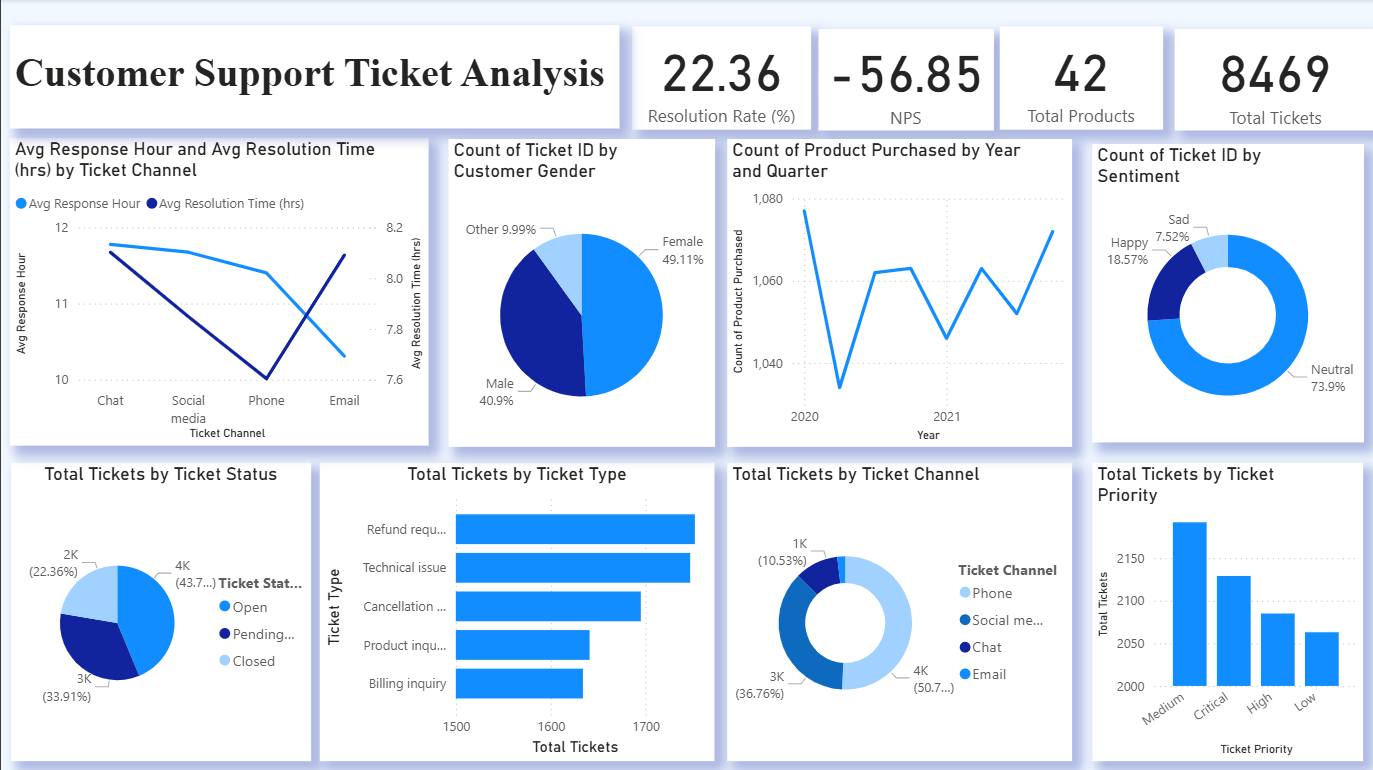

Layout of this report page (visuals, bound fields, positions):
{"tool":"powerbi","page":{"name":"Page 1","canvas":[1280,720],"ordinal":0},"visuals":[{"type":"card","fields":{"Values":["customer_support_tickets.Resolution Rate (%)"]},"box":[587.1,26.1,166.7,95.8],"z":0},{"type":"card","fields":{"Values":["customer_support_tickets.NPS"]},"box":[760.1,27.4,163,94.5],"z":1000},{"type":"pieChart","fields":{"Category":["customer_support_tickets.Ticket Status"],"Y":["customer_support_tickets.Total Tickets"]},"box":[9,431.3,279.1,277.6],"z":2000},{"type":"clusteredBarChart","fields":{"Category":["customer_support_tickets.Ticket Type"],"Y":["customer_support_tickets.Total Tickets"]},"box":[297,431.3,367.2,277.6],"z":3000},{"type":"lineStackedColumnComboChart","fields":{"Category":["customer_support_tickets.Ticket Priority"],"Y":["customer_support_tickets.Total Tickets"]},"box":[1014.9,431.3,252.2,277.6],"z":4000},{"type":"lineChart","fields":{"Category":["customer_support_tickets.Ticket Channel"],"Y":["customer_support_tickets.Avg Response Hour"],"Y2":["customer_support_tickets.Avg Resolution Time (hrs)"]},"box":[8.7,129.4,389.4,286.1],"z":5000},{"type":"donutChart","fields":{"Category":["customer_support_tickets.Ticket Channel"],"Y":["customer_support_tickets.Total Tickets"]},"box":[676.1,431.3,320.9,277.6],"z":6000},{"type":"card","fields":{"Values":["customer_support_tickets.Total Products"]},"box":[929.2,26.1,151.8,95.8],"z":7000},{"type":"textbox","box":[8.7,24.9,567.2,95.8],"z":8000},{"type":"card","fields":{"Values":["customer_support_tickets.Total Tickets"]},"box":[1092.2,27.4,187.8,94.5],"z":9000},{"type":"pieChart","fields":{"Category":["customer_support_tickets.Customer Gender"],"Y":["CountNonNull(customer_support_tickets.Ticket ID)"]},"box":[416.4,129.9,247.8,286.6],"z":11000},{"type":"lineChart","fields":{"Category":["customer_support_tickets.Date of Purchase.Variation.Date Hierarchy.Year","customer_support_tickets.Date of Purchase.Variation.Date Hierarchy.Quarter","customer_support_tickets.Date of Purchase.Variation.Date Hierarchy.Month","customer_support_tickets.Date of Purchase.Variation.Date Hierarchy.Day"],"Y":["CountNonNull(customer_support_tickets.Product Purchased)"]},"box":[676.1,129.9,320.9,286.6],"z":12000},{"type":"donutChart","fields":{"Category":["ticket_sentiment_table.Sentiment"],"Y":["Count(ticket_sentiment_table.Ticket ID)"]},"box":[1015.1,134.3,252.5,277.4],"z":12001}]}

Visuals, with their boxes in screenshot pixels (x1, y1, x2, y2), scaled from the page's 1280x720 canvas onto the 1373x770 screenshot:
card - customer_support_tickets.Resolution Rate (%): 630, 28, 809, 130
card - customer_support_tickets.NPS: 815, 29, 990, 130
pieChart - customer_support_tickets.Ticket Status x customer_support_tickets.Total Tickets: 10, 461, 309, 758
clusteredBarChart - customer_support_tickets.Ticket Type x customer_support_tickets.Total Tickets: 319, 461, 712, 758
lineStackedColumnComboChart - customer_support_tickets.Ticket Priority x customer_support_tickets.Total Tickets: 1089, 461, 1359, 758
lineChart - customer_support_tickets.Ticket Channel x customer_support_tickets.Avg Response Hour: 9, 138, 427, 444
donutChart - customer_support_tickets.Ticket Channel x customer_support_tickets.Total Tickets: 725, 461, 1069, 758
card - customer_support_tickets.Total Products: 997, 28, 1160, 130
textbox: 9, 27, 618, 129
card - customer_support_tickets.Total Tickets: 1172, 29, 1372, 130
pieChart - customer_support_tickets.Customer Gender x CountNonNull(customer_support_tickets.Ticket ID): 447, 139, 712, 445
lineChart - customer_support_tickets.Date of Purchase.Variation.Date Hierarchy.Year x customer_support_tickets.Date of Purchase.Variation.Date Hierarchy.Quarter: 725, 139, 1069, 445
donutChart - ticket_sentiment_table.Sentiment x Count(ticket_sentiment_table.Ticket ID): 1089, 144, 1360, 440
